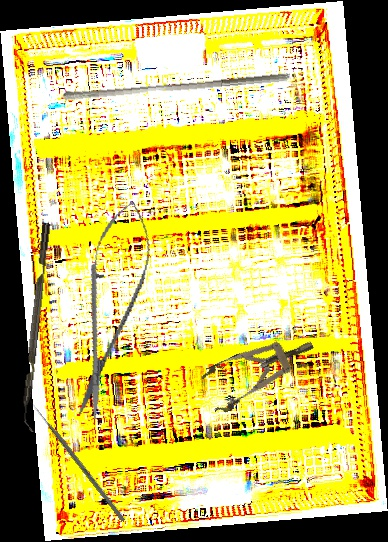Chopper: (17, 222, 61, 433)
Micro Scissor: (58, 195, 162, 424)
Pusher: (28, 399, 126, 522), (61, 64, 292, 109)
Speculum: (197, 323, 323, 417)
